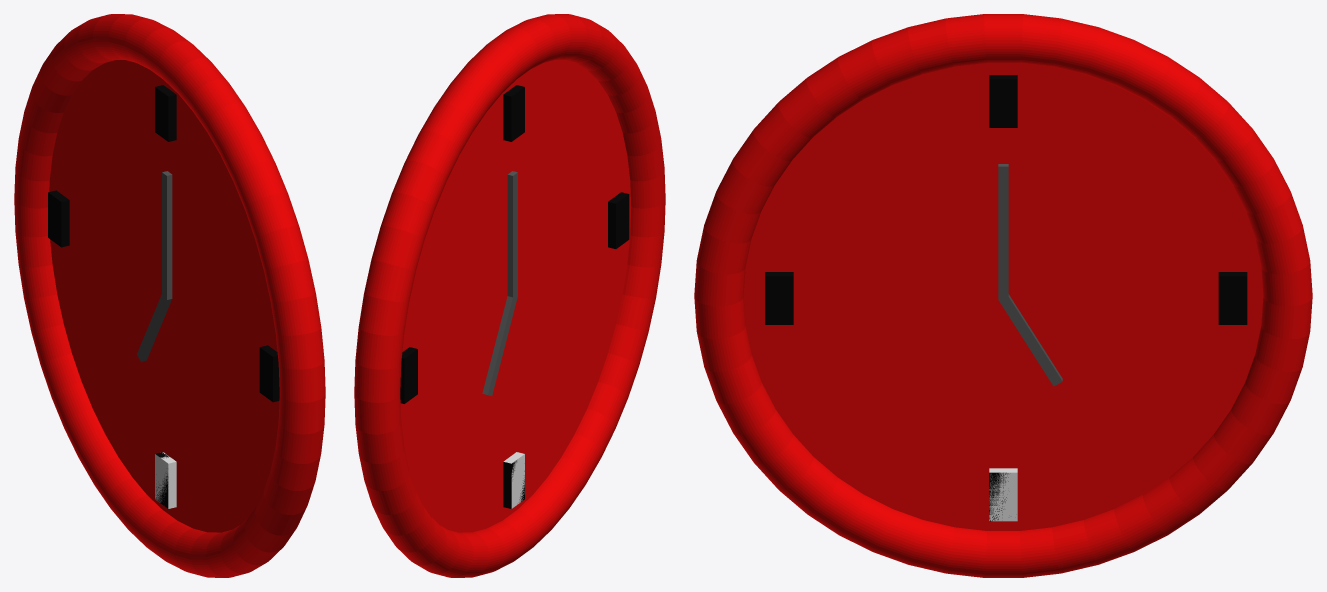
Rendered from time-.fbx.
The picture shows the model from 3 angles, left to right: view 1: azimuth 30°, elevation 25°; view 2: azimuth 150°, elevation 25°; view 3: azimuth 270°, elevation 25°; orthographic projection. The views are drawn at different scales.
Visible parts, largest first — view 1: Circle, Cube.004, Cube, Cube.002; view 2: Circle, Cube.004, Cube, Cube.002; view 3: Circle, Cube.004, Cube, Cube.002.
Boxes of the visible parts, bbox=[...] form: Circle: bbox=[14, 14, 325, 577]; Cube.004: bbox=[48, 85, 279, 508]; Cube: bbox=[137, 171, 172, 361]; Cube.002: bbox=[155, 452, 176, 508]; Circle: bbox=[354, 14, 665, 577]; Cube.004: bbox=[400, 85, 629, 508]; Cube: bbox=[482, 171, 517, 395]; Cube.002: bbox=[503, 452, 524, 508]; Circle: bbox=[694, 14, 1312, 577]; Cube.004: bbox=[765, 75, 1247, 521]; Cube: bbox=[998, 164, 1062, 386]; Cube.002: bbox=[989, 468, 1017, 521].
Bounding box in the file's own units: 30 × 375 × 376.
